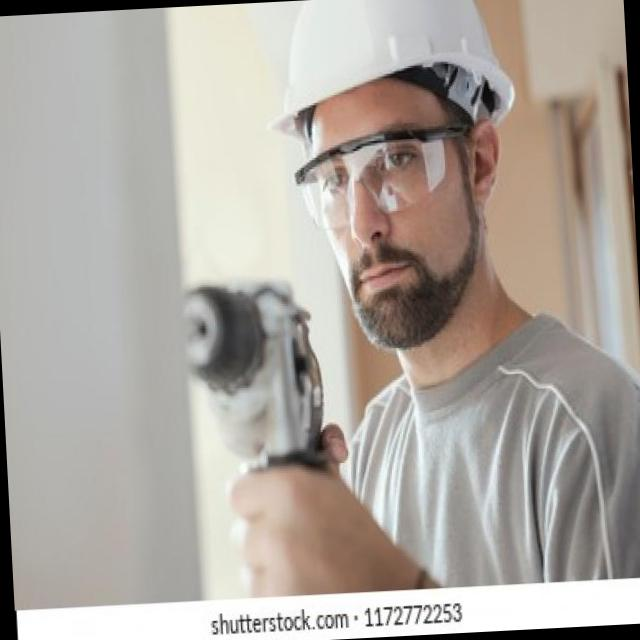Helmet: (254, 0, 520, 130)
